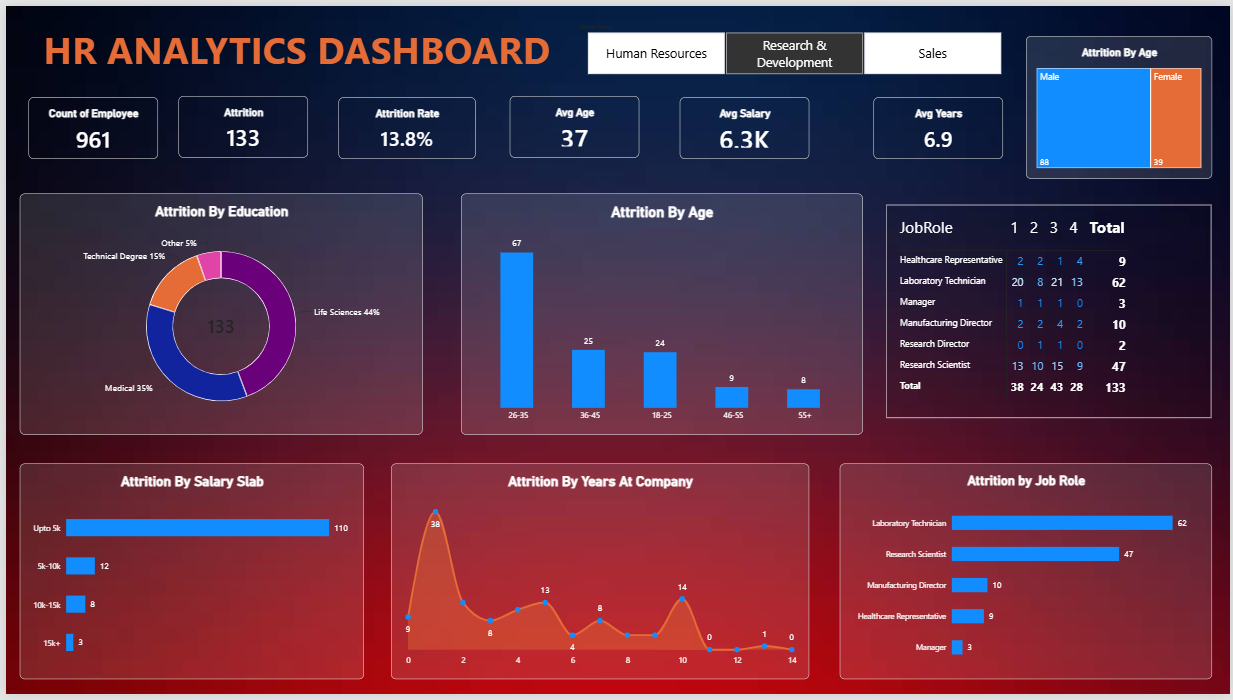

The page's visual inventory and layout, read from the dashboard file:
{"tool":"powerbi","page":{"name":"Page 1","canvas":[1920,1080],"ordinal":0},"visuals":[{"type":"card","title":"Count of Employee","fields":{"Values":["Count(HR_Analytics (2).EmpID)"]},"box":[36,144,203.3,96.7],"z":0},{"type":"card","title":"Attrition Rate","fields":{"Values":["HR_Analytics (2).AttritionRate"]},"box":[522,144,215,96.7],"z":1000},{"type":"card","title":"Attrition","fields":{"Values":["Sum(HR_Analytics (2).AttritionCount)"]},"box":[270,142,203.3,96.7],"z":2000},{"type":"card","title":"Avg Age","fields":{"Values":["Avg(HR_Analytics (2).Age)"]},"box":[790,142,203.3,96.7],"z":3000},{"type":"card","title":"Avg Years","fields":{"Values":["Avg(HR_Analytics (2).YearsAtCompany)"]},"box":[1360,144,203.3,96.7],"z":4000},{"type":"card","title":"Avg Salary","fields":{"Values":["Avg(HR_Analytics (2).MonthlyIncome)"]},"box":[1056,144,203.3,96.7],"z":5000},{"type":"donutChart","title":"Attrition By Education","fields":{"Category":["HR_Analytics (2).EducationField"],"Y":["Sum(HR_Analytics (2).AttritionCount)"]},"box":[22,294,632,378],"z":6000},{"type":"columnChart","title":"Attrition By Age","fields":{"Category":["HR_Analytics (2).AgeGroup"],"Y":["Sum(HR_Analytics (2).AttritionCount)"]},"box":[714,294,630,378],"z":7000},{"type":"pivotTable","fields":{"Columns":["HR_Analytics (2).JobSatisfaction"],"Rows":["HR_Analytics (2).JobRole"],"Values":["Sum(HR_Analytics (2).AttritionCount)"]},"box":[1380.8,311.3,510.3,334.8],"z":8000},{"type":"barChart","title":"Attrition By Salary Slab","fields":{"Category":["HR_Analytics (2).SalarySlab"],"Y":["Sum(HR_Analytics (2).AttritionCount)"]},"box":[22,718,540,338],"z":9000},{"type":"barChart","title":"Attrition by Job Role","fields":{"Category":["HR_Analytics (2).JobRole"],"Y":["Sum(HR_Analytics (2).AttritionCount)"]},"box":[1308,718,584,338],"z":10000},{"type":"slicer","title":"Attrition By Age","fields":{"Values":["HR_Analytics (2).Department"]},"box":[892.2,27.1,687.7,81.4],"z":11000},{"type":"treemap","title":"Attrition By Age","fields":{"Group":["HR_Analytics (2).Gender"],"Values":["Sum(HR_Analytics (2).AttritionCount)"]},"box":[1600,48,292,224],"z":12000},{"type":"areaChart","title":"Attrition By Years At Company","fields":{"Category":["HR_Analytics (2).YearsAtCompany"],"Y":["Sum(HR_Analytics (2).AttritionCount)"]},"box":[604,718,656,338],"z":13000},{"type":"textbox","box":[59.7,27.1,832.4,81.4],"z":14000}]}

Visuals, with their boxes in screenshot pixels (x1, y1, x2, y2), scaled from the page's 1920x1080 canvas onto the 1233x700 screenshot:
"Count of Employee" card: 23, 93, 154, 156
"Attrition Rate" card: 335, 93, 473, 156
"Attrition" card: 173, 92, 304, 155
"Avg Age" card: 507, 92, 638, 155
"Avg Years" card: 873, 93, 1004, 156
"Avg Salary" card: 678, 93, 809, 156
"Attrition By Education" donutChart: 14, 191, 420, 436
"Attrition By Age" columnChart: 459, 191, 863, 436
pivotTable - HR_Analytics (2).JobSatisfaction x HR_Analytics (2).JobRole: 887, 202, 1214, 419
"Attrition By Salary Slab" barChart: 14, 465, 361, 684
"Attrition by Job Role" barChart: 840, 465, 1215, 684
"Attrition By Age" slicer: 573, 18, 1015, 70
"Attrition By Age" treemap: 1028, 31, 1215, 176
"Attrition By Years At Company" areaChart: 388, 465, 809, 684
textbox: 38, 18, 573, 70
